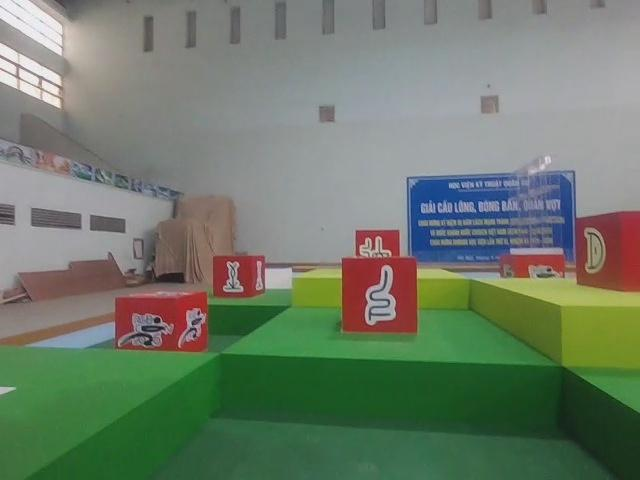R1: (118, 291, 210, 354)
R2 Fake: (341, 258, 421, 335)
R2 Real: (573, 212, 640, 290), (211, 256, 267, 298)
